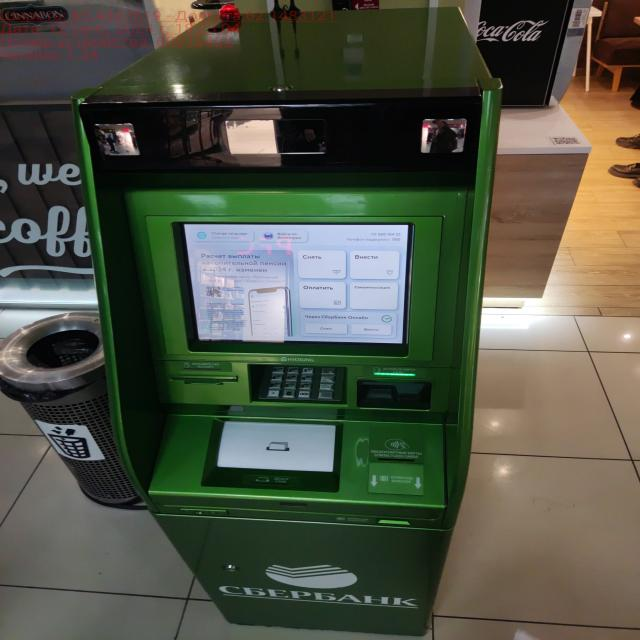bank: (77, 1, 494, 640)
